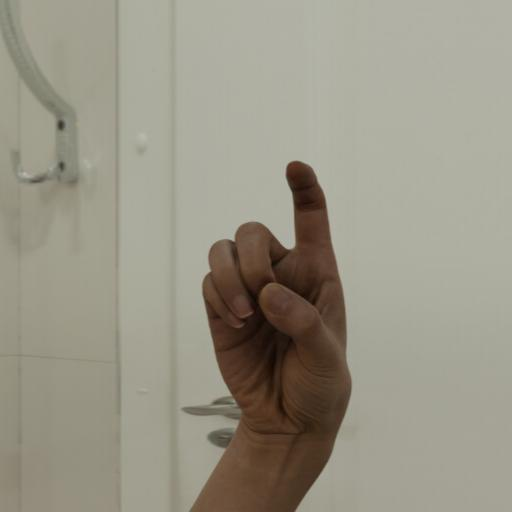X: (189, 157, 362, 482)
